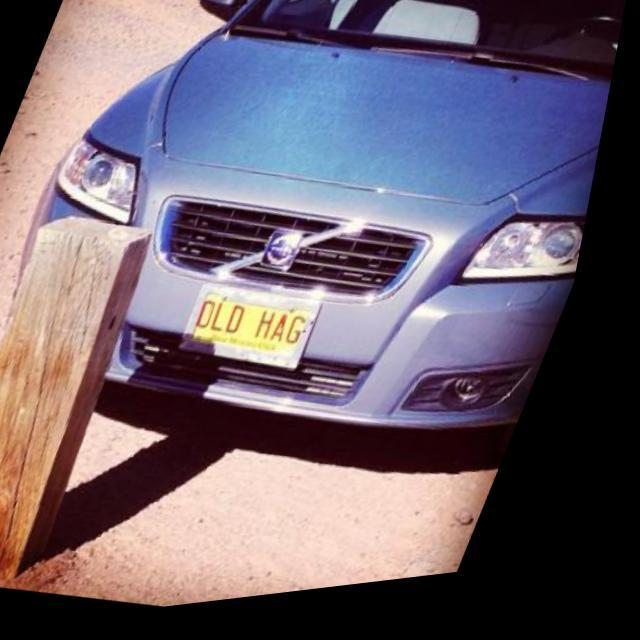license_plate: (182, 276, 343, 392)
